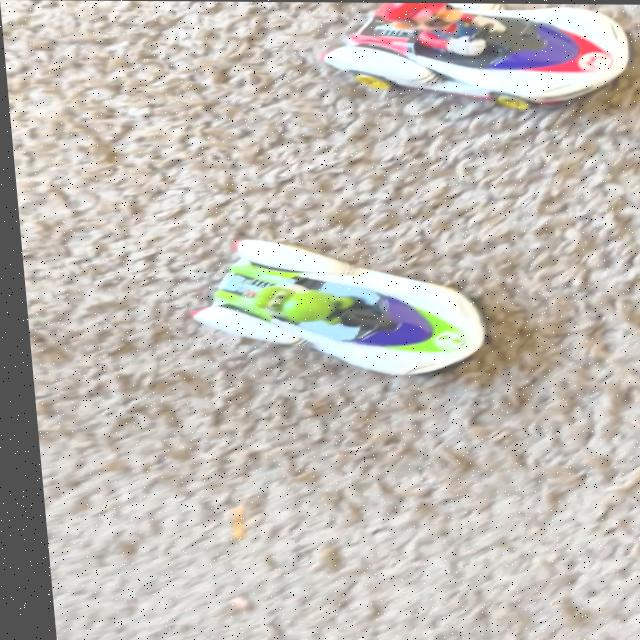mario: (312, 2, 640, 122)
yoshi: (158, 218, 518, 394)
